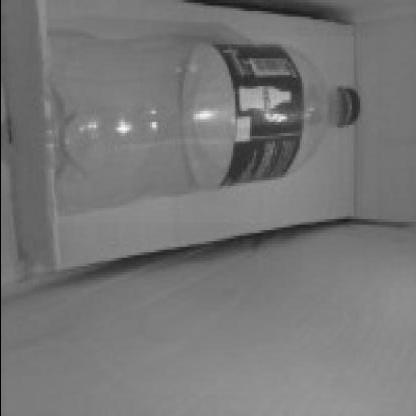plastic_bottles: (46, 37, 376, 223)
